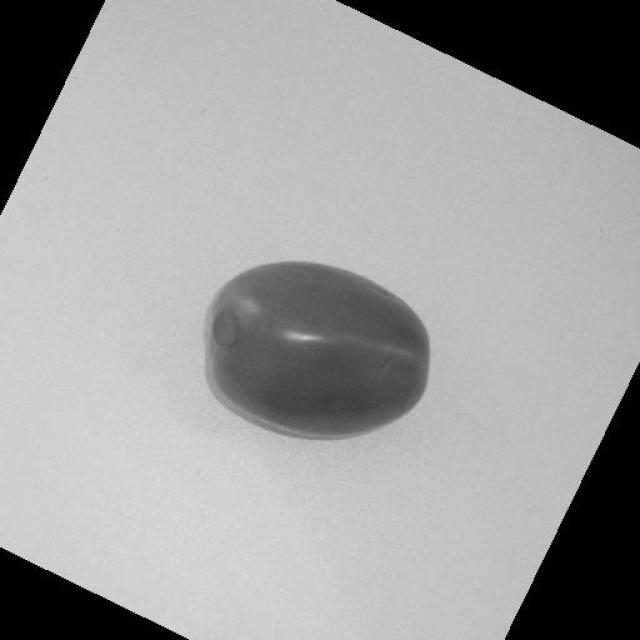Stale_tomato: (192, 246, 455, 444)
